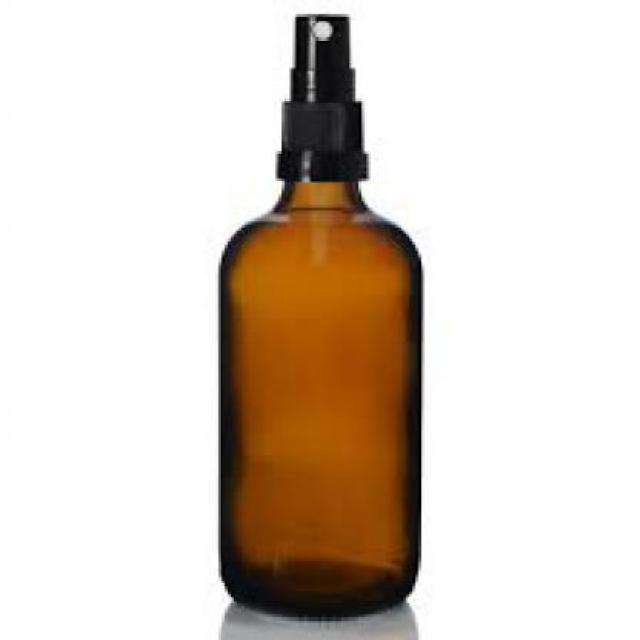kaca: (215, 177, 418, 617)
